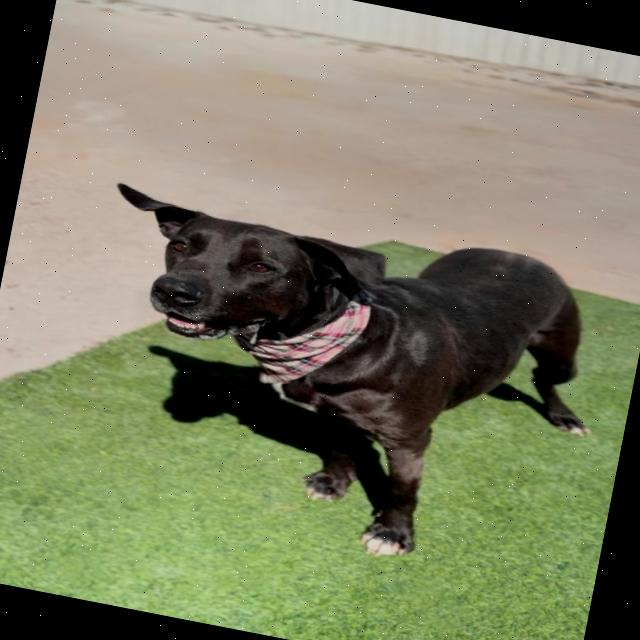labrador_retriever_dog: (80, 178, 410, 382)
